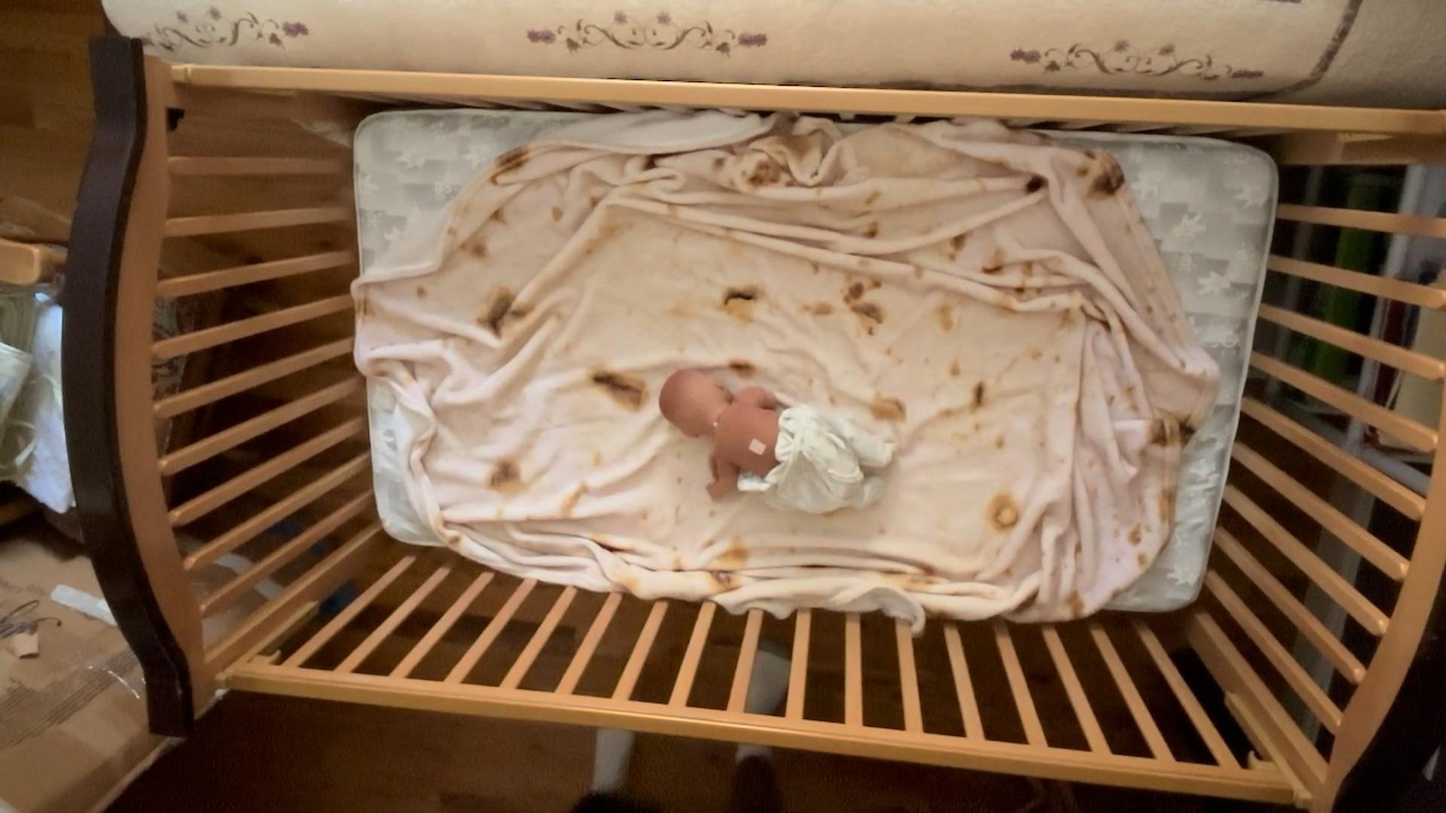baby: (658, 364, 899, 516)
